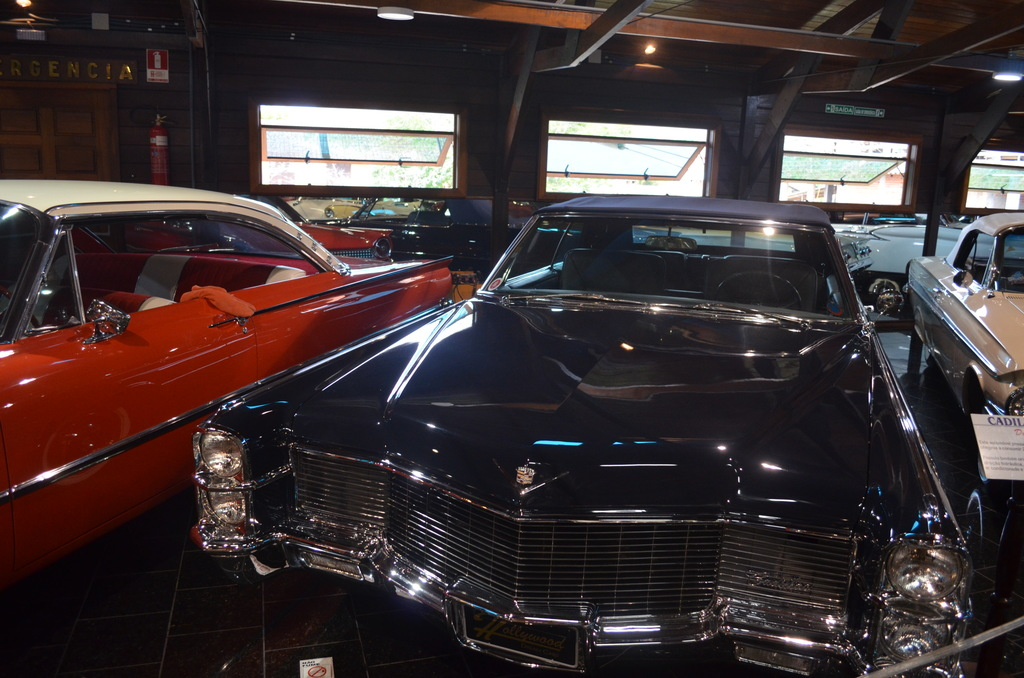Wheel: (958, 483, 1004, 552)
